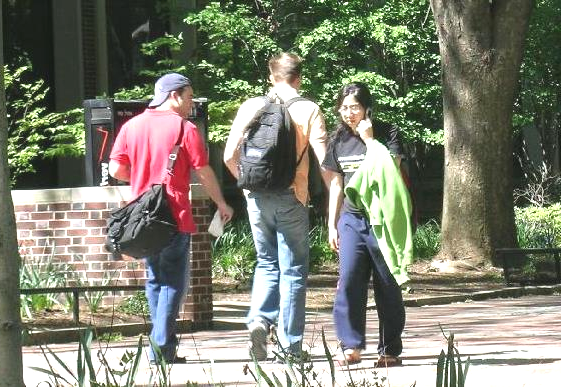pedestrian: (106, 74, 232, 366), (224, 53, 329, 360), (322, 84, 414, 366)
